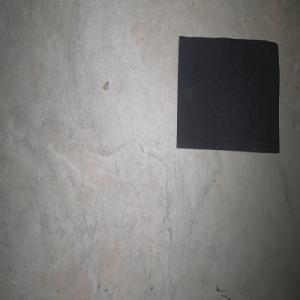PaintChip: (176, 35, 279, 153)
